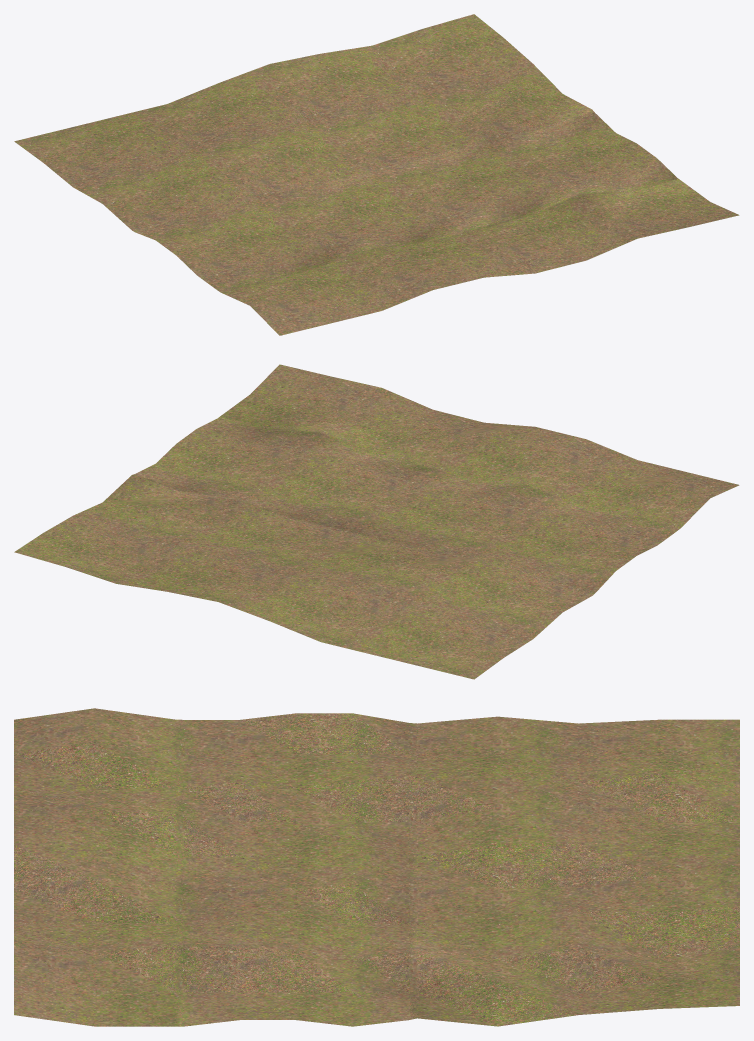
The model's file is updated-ground-v2.glb.
3 renders of one model, top to bottom at view 1: azimuth 30°, elevation 25°; view 2: azimuth 150°, elevation 25°; view 3: azimuth 270°, elevation 25°, orthographic. The views are drawn at different scales.
Parts seen in each view (by area): view 1: Plane; view 2: Plane; view 3: Plane.
Part boxes in pixels (bbox=[...]): Plane: bbox=[14, 14, 739, 335]; Plane: bbox=[14, 364, 739, 679]; Plane: bbox=[14, 708, 739, 1026].
Size of the model in its own units: 4 by 0.148 by 4.
1 material, 1 textured.
